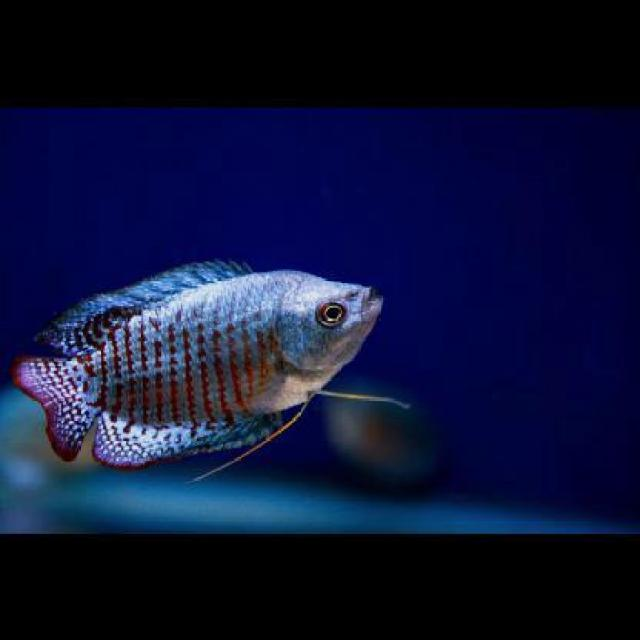Gourami: (9, 250, 388, 467)
